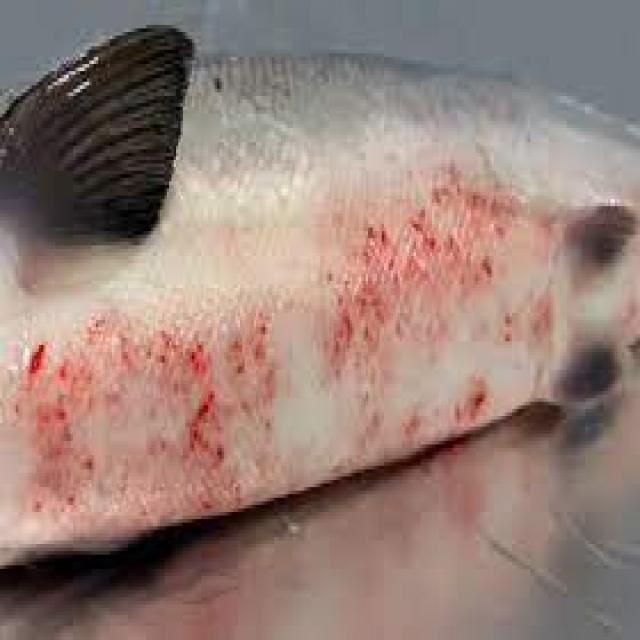EUS Disease: (0, 54, 639, 565), (22, 123, 618, 560)
